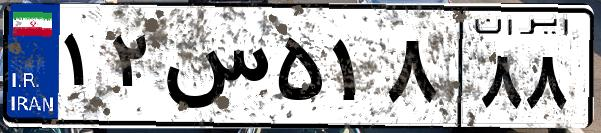1: (330, 28, 385, 110), (57, 26, 110, 100)
2: (110, 28, 158, 98)
5: (270, 28, 330, 110)
8: (385, 28, 445, 110), (475, 38, 525, 113), (525, 38, 570, 115)
س: (158, 20, 270, 120)
